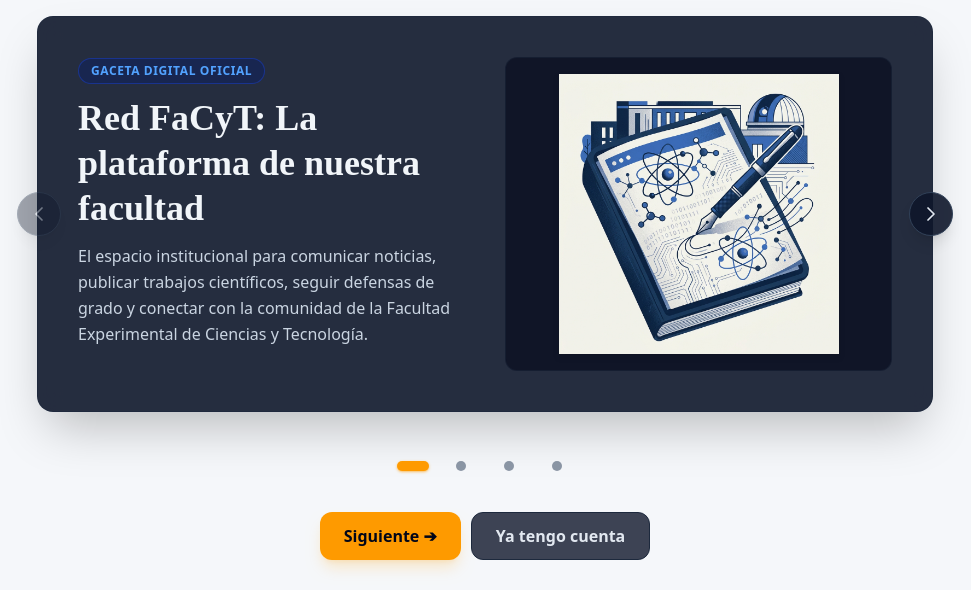
Test case: LandingSlider › navigates backwards when clicking Anterior arrow button
Click the button "Siguiente ➔": (390, 536) 320,512 -> 461,560
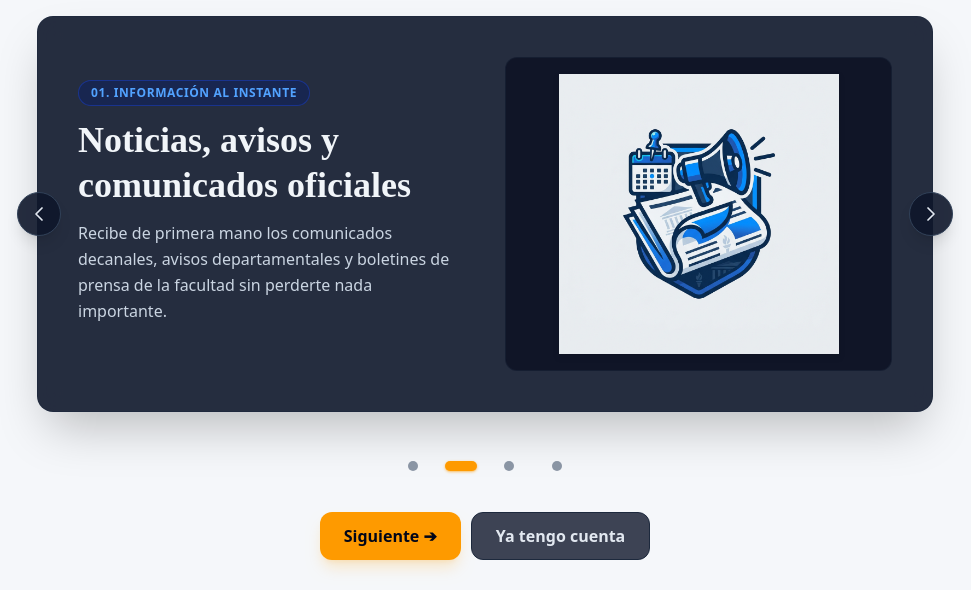
Expected: the heading "Noticias, avisos y comunicados oficiales" is shown, 78,118 -> 465,208
Click the button named "Diapositiva anterior": (39, 214) 17,192 -> 61,236
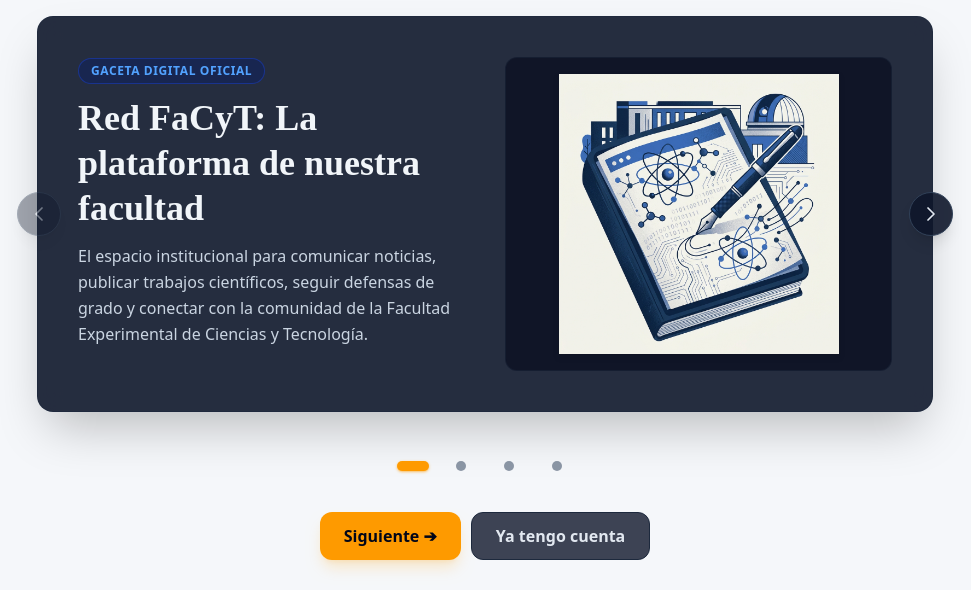
Expected: the heading "Red FaCyT: La plataforma de nuestra facultad" is shown, 78,96 -> 465,230
